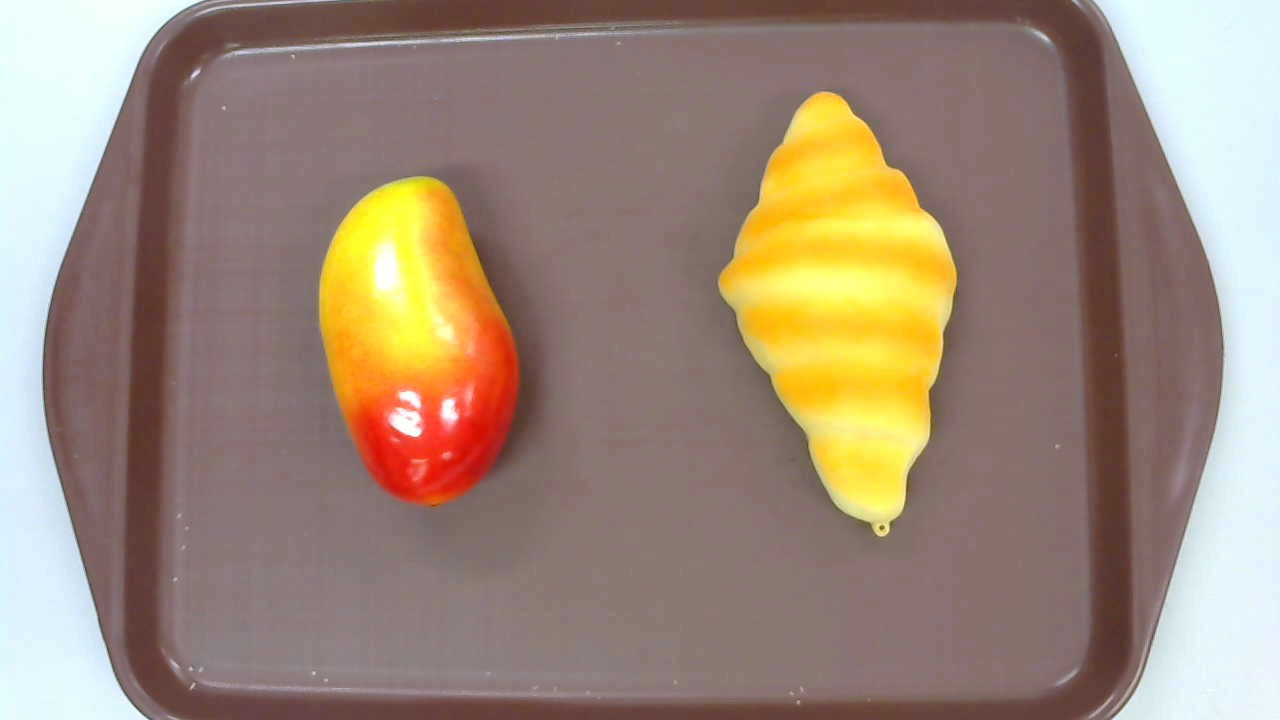croissant: (716, 91, 957, 537)
red mango: (317, 176, 521, 509)
